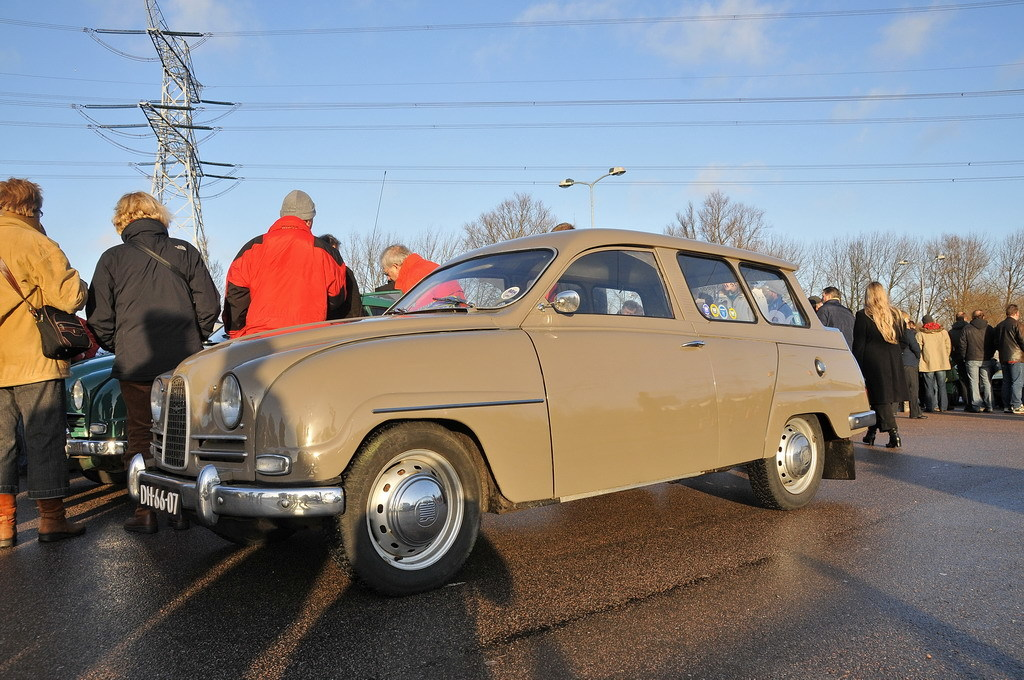Car: (115, 227, 894, 574), (44, 309, 252, 489)
